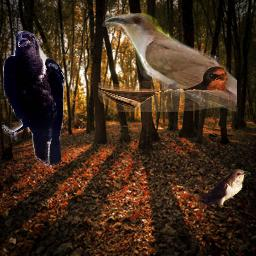Crow: (2, 30, 65, 169)
Cuckoo: (102, 13, 237, 113), (198, 169, 251, 208)
Swallow: (98, 65, 229, 112)
